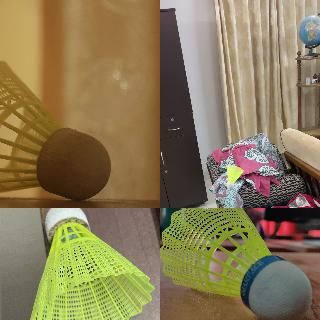shuttlecock: (160, 208, 313, 319), (0, 50, 112, 200), (27, 208, 153, 319), (227, 166, 243, 188)
